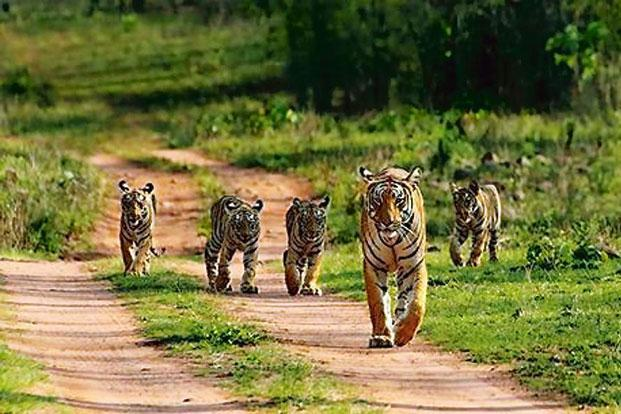tiger: (357, 161, 427, 353), (203, 194, 263, 296), (114, 181, 168, 280), (281, 199, 331, 297), (445, 178, 500, 264)
